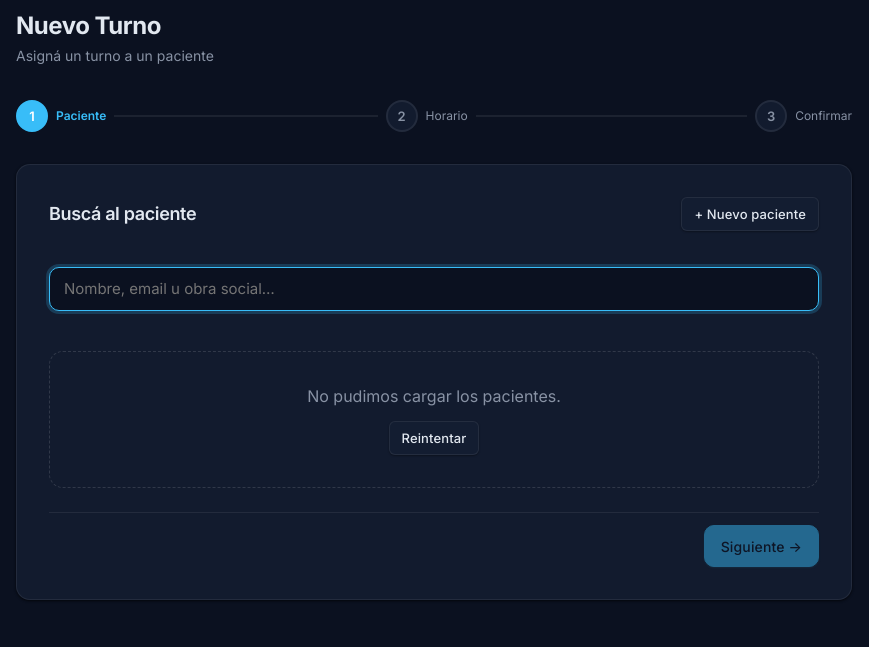
Test: NewAppointmentPage › si la carga de pacientes falla lo dice y ofrece reintentar, no finge que no hay pacientes
Expected: the text "No pudimos cargar los pacientes." is shown, [307,384,561,409]
Click the button "Reintentar". click: (434, 438)
box: [388,421,479,455]
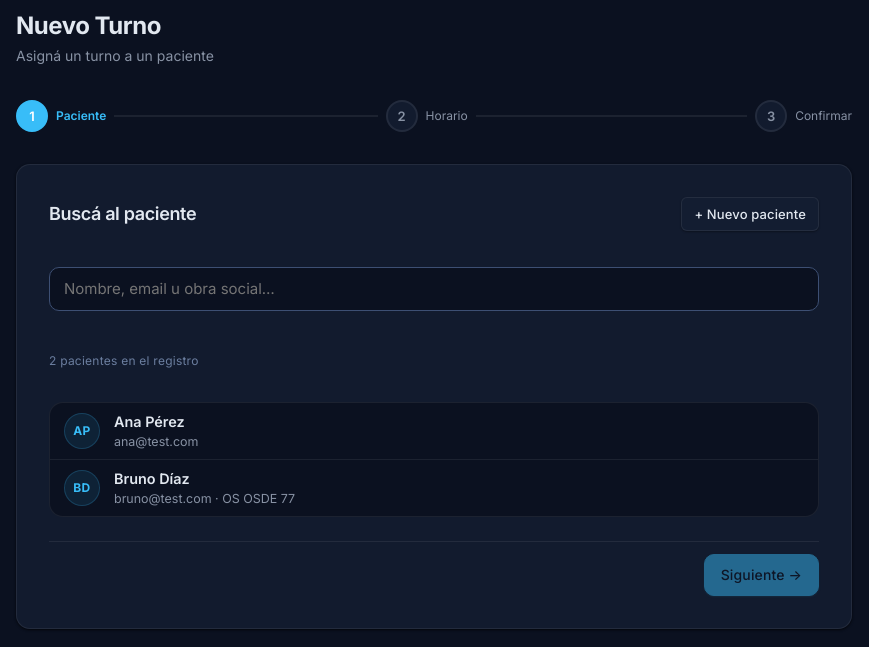
Now the text "Ana Pérez" is shown, box [114,413,185,430]
